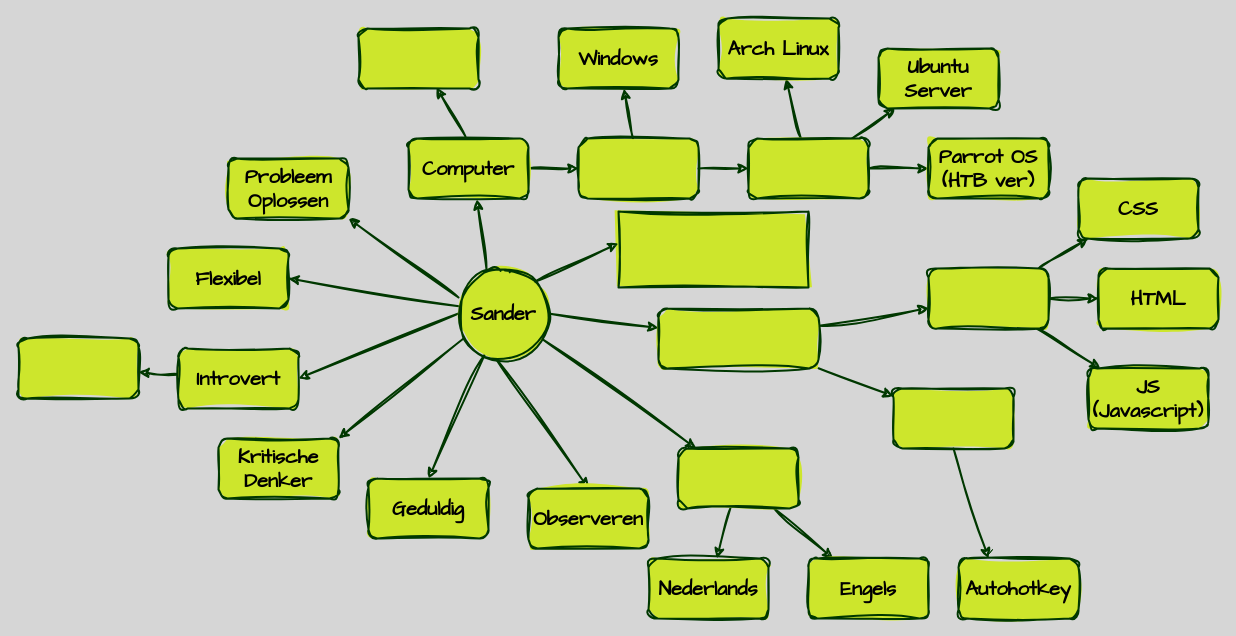
Some shapes in this 1236 by 636 pixel diagram are drawn without their labels. Here are the shapes that lost their labels. From the top down, the box of each, then its label:
(357, 27, 479, 89): Bouwen
(577, 137, 699, 199): OS
(747, 137, 869, 199): Linux
(617, 210, 809, 288): Snel accuraat Typen (60wpm)
(927, 267, 1049, 329): Website
(657, 307, 819, 369): Programmeren
(17, 337, 139, 399): Stil
(892, 387, 1014, 449): Programma
(677, 447, 799, 509): Talen
